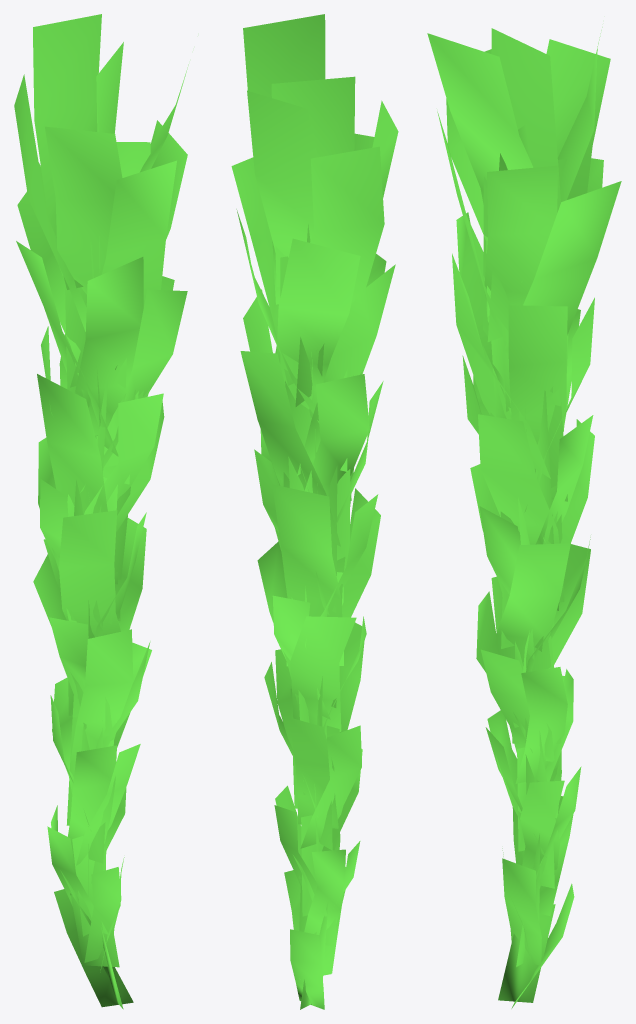
File: Seaweed01.fbx
The picture shows the model from 3 angles, left to right: view 1: azimuth 30°, elevation 25°; view 2: azimuth 150°, elevation 25°; view 3: azimuth 270°, elevation 25°; orthographic projection. The views are drawn at different scales.
Parts seen in each view (by area): view 1: SeaWeed01; view 2: SeaWeed01; view 3: SeaWeed01.
Part boxes in pixels (<box>): SeaWeed01: <box>14,14,188,1009</box>; SeaWeed01: <box>231,14,398,1009</box>; SeaWeed01: <box>427,27,621,1008</box>.
Bounding box in the file's own units: 72.78 × 411 × 73.68.
